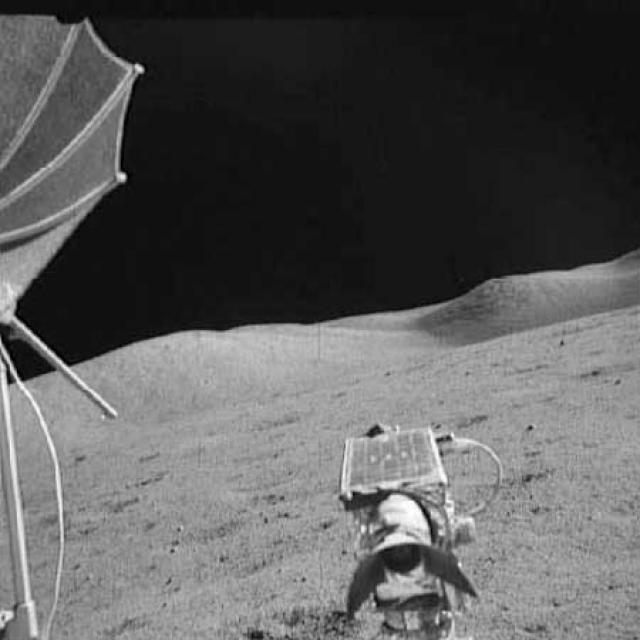artifact: (0, 13, 156, 443), (326, 416, 508, 639), (0, 440, 74, 638)
crater: (481, 360, 638, 397), (195, 402, 321, 437), (157, 514, 252, 554)
